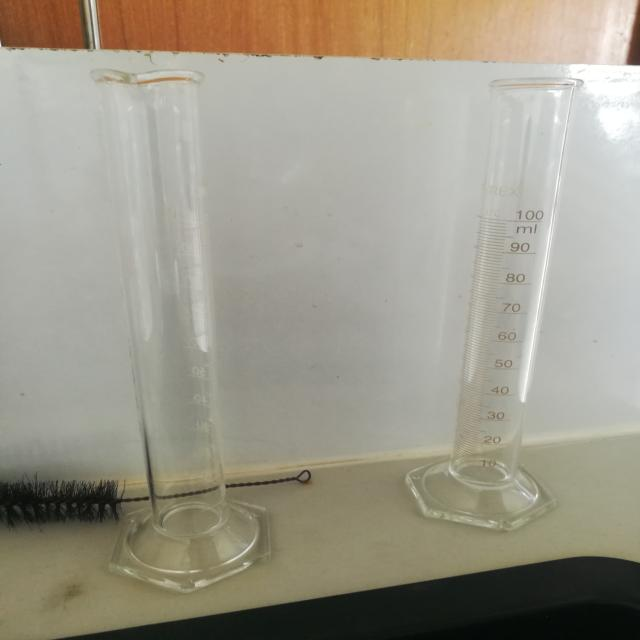Measuring_Cylinder: (39, 42, 318, 610), (360, 32, 610, 562)
